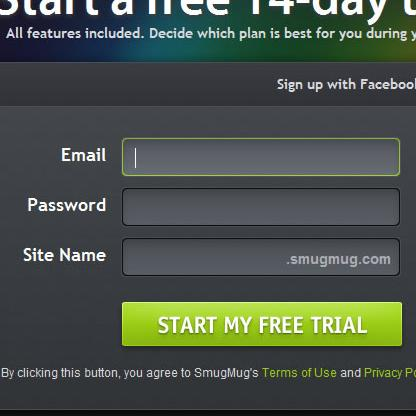button: (120, 301, 403, 347)
field: (120, 187, 401, 228), (119, 237, 402, 277), (120, 137, 401, 177)
field_with_label: (22, 235, 404, 279), (25, 185, 403, 229), (59, 134, 403, 179)
